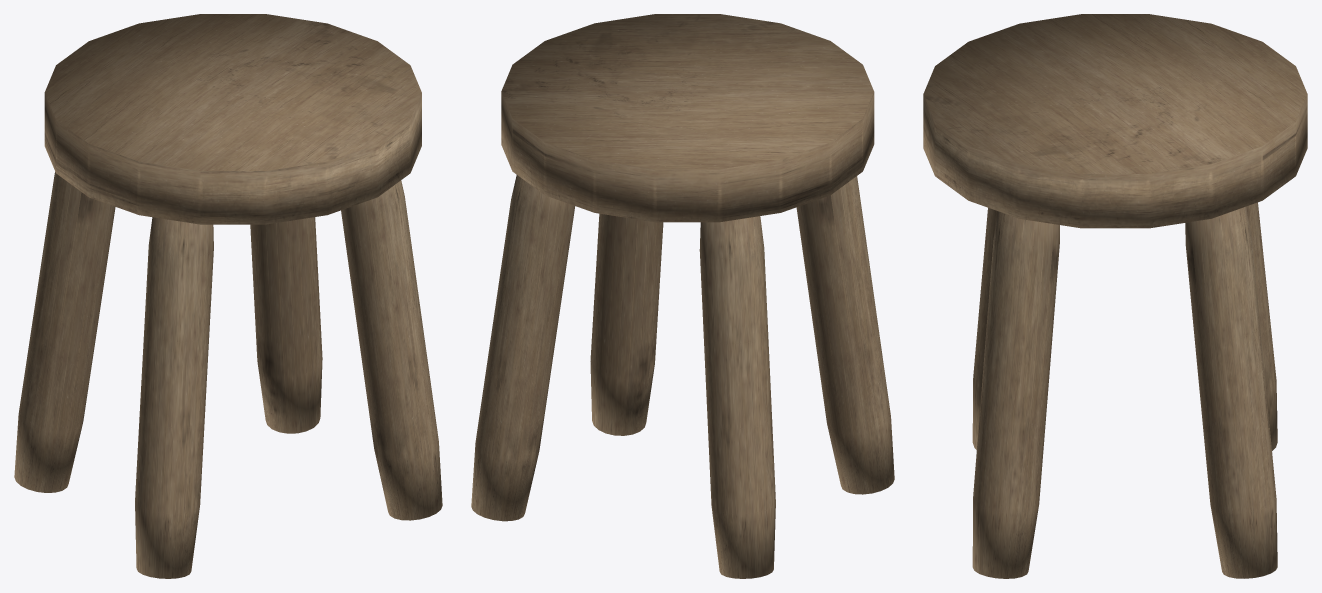
The model's file is banquinho_TEXTURIZADO.fbx.
3 views of the same model, side by side, from view 1: azimuth 30°, elevation 25°; view 2: azimuth 150°, elevation 25°; view 3: azimuth 270°, elevation 25° (orthographic). The views are drawn at different scales.
Visible parts, largest first — view 1: banquinho smooth; view 2: banquinho smooth; view 3: banquinho smooth.
Boxes of the visible parts, bbox=[...] form: banquinho smooth: bbox=[14, 14, 442, 578]; banquinho smooth: bbox=[471, 14, 894, 578]; banquinho smooth: bbox=[923, 14, 1307, 578].
Bounding box in the file's own units: 40.02 × 48.6 × 40.63.
Materials: 1 (1 with a texture image).
